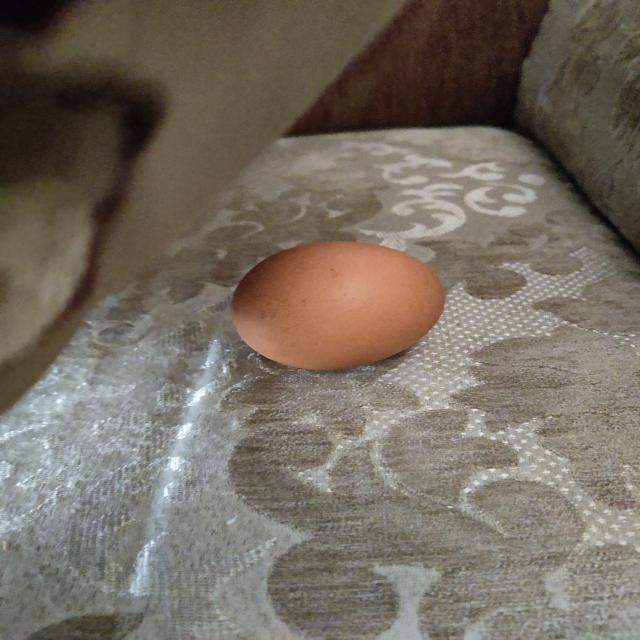Egg: (228, 240, 457, 376)
